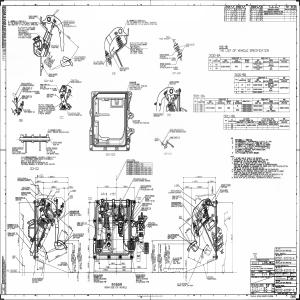PartNumber: (159, 53, 169, 56), (279, 65, 289, 68), (236, 124, 246, 127), (253, 88, 262, 91), (258, 123, 267, 126), (269, 123, 278, 126), (28, 15, 38, 17), (48, 73, 58, 75), (46, 148, 56, 150), (21, 192, 31, 194), (140, 185, 150, 187), (221, 184, 231, 186), (153, 113, 163, 115), (253, 66, 263, 68), (253, 92, 263, 94), (279, 87, 289, 89), (205, 107, 215, 109), (242, 110, 252, 112), (242, 108, 252, 110), (242, 106, 252, 108), (242, 104, 252, 106), (253, 109, 263, 111), (253, 105, 263, 107), (247, 124, 257, 126), (53, 142, 62, 144), (12, 147, 21, 149), (94, 274, 103, 276), (136, 274, 145, 276), (145, 194, 154, 196), (170, 80, 179, 82), (160, 62, 169, 64), (120, 68, 129, 70), (253, 84, 262, 86), (254, 63, 262, 65), (280, 107, 288, 109), (280, 125, 288, 127)
